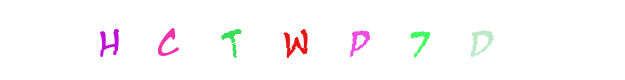7: (284, 0, 364, 80)
C: (203, 0, 283, 80)
D: (405, 0, 485, 80)
H: (69, 0, 149, 80)
P: (273, 0, 353, 80)
T: (210, 0, 290, 80)
W: (256, 0, 336, 80)
